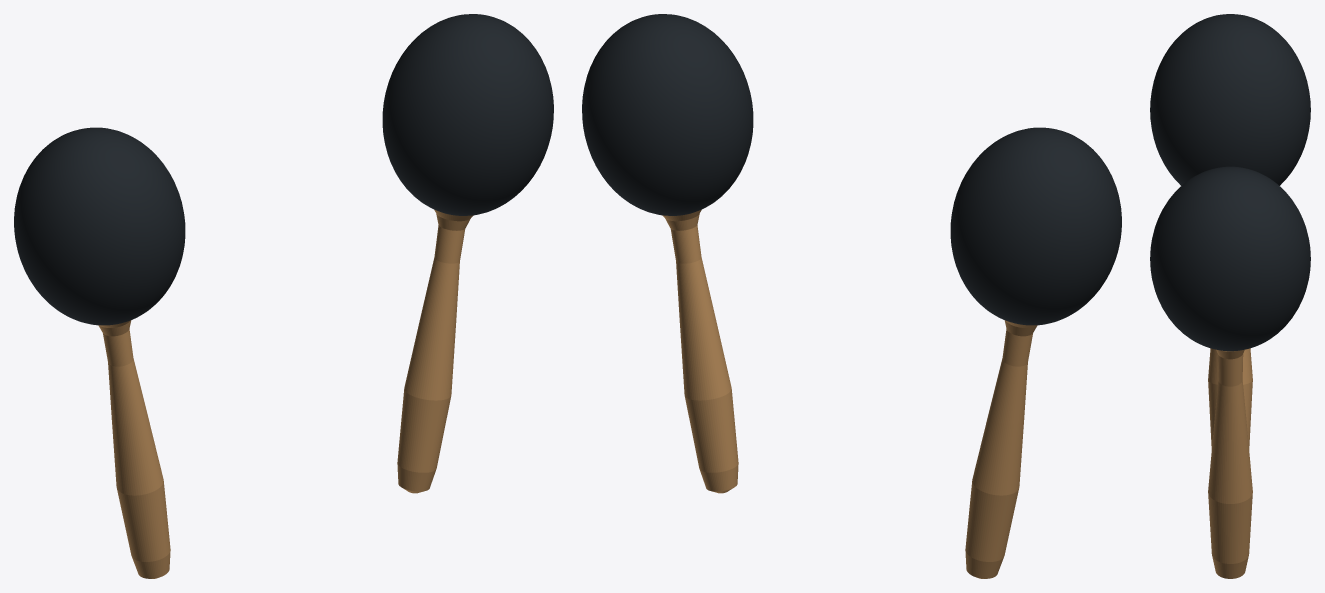
The model's file is A-NEW-20261026-MARACAS-PAIR-001_LOD0_R1.fbx.
3 renders of one model, left to right at view 1: azimuth 30°, elevation 25°; view 2: azimuth 150°, elevation 25°; view 3: azimuth 270°, elevation 25°, orthographic. The views are drawn at different scales.
Visible parts, largest first — view 1: right closed oval head, left closed oval head, right shaped wooden handle, left shaped wooden handle; view 2: right closed oval head, left closed oval head, right shaped wooden handle, left shaped wooden handle; view 3: right closed oval head, left closed oval head, right shaped wooden handle, left shaped wooden handle.
Boxes of the visible parts, box(x1,y1,x2,y2) form: right closed oval head: box(382, 14, 553, 215); left closed oval head: box(14, 127, 185, 325); right shaped wooden handle: box(397, 225, 465, 493); left shaped wooden handle: box(103, 329, 170, 578); right closed oval head: box(582, 14, 753, 215); left closed oval head: box(950, 127, 1121, 325); right shaped wooden handle: box(670, 225, 738, 493); left shaped wooden handle: box(965, 329, 1032, 578); right closed oval head: box(1150, 166, 1310, 351); left closed oval head: box(1150, 14, 1310, 185); right shaped wooden handle: box(1208, 354, 1252, 578); left shaped wooden handle: box(1208, 348, 1252, 449).
Size of the model in its own units: 30.06 by 26.57 by 8.6.
